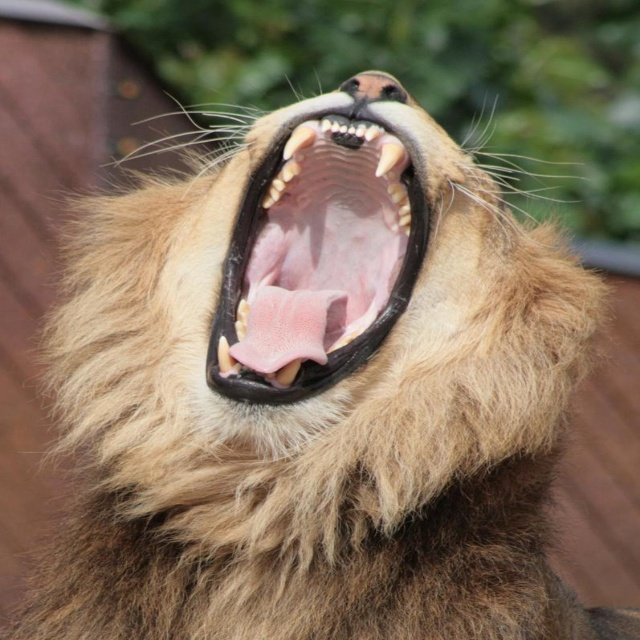Lion: (1, 64, 639, 640)
